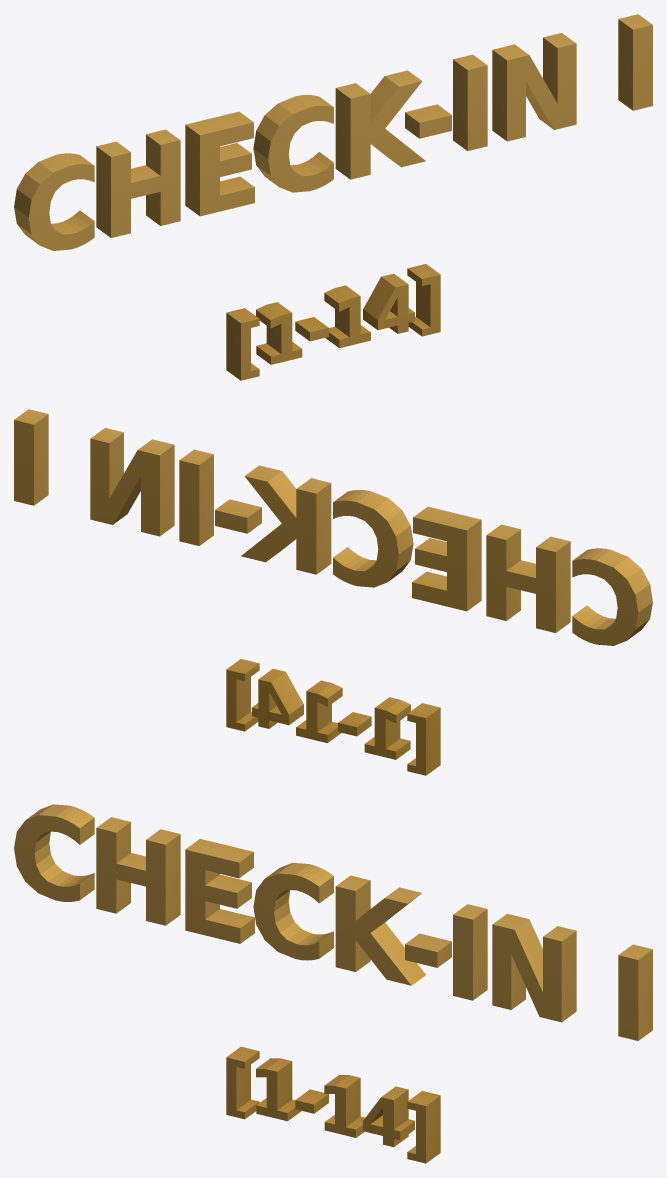
File: CHECK_IN_I_1_14.glb
3 views of the same model, one above another, from view 1: azimuth 30°, elevation 25°; view 2: azimuth 150°, elevation 25°; view 3: azimuth 330°, elevation 25° (orthographic).
Parts seen in each view (by area): view 1: world; view 2: world; view 3: world.
Boxes of the visible parts, x1,y1,x2,y2 form: world: (14, 14, 652, 380); world: (14, 409, 652, 775); world: (14, 804, 652, 1163).
Size of the model in its own units: 15.4 by 6.05 by 0.6289.
